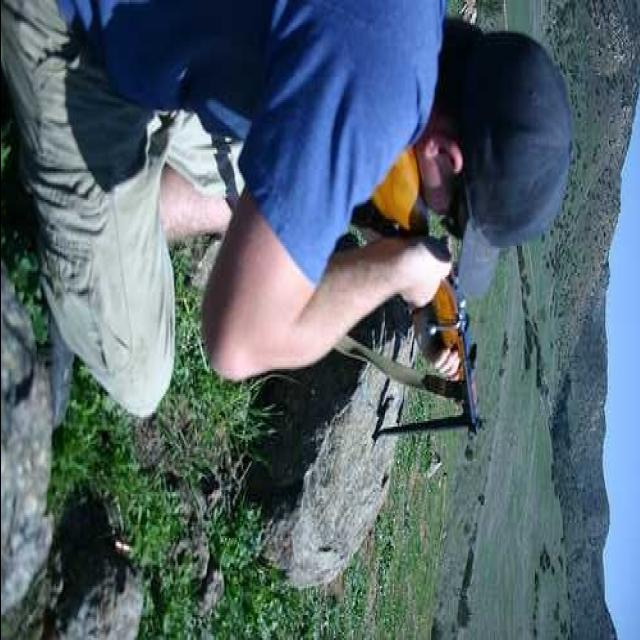heavyweapon: (309, 118, 503, 512)
